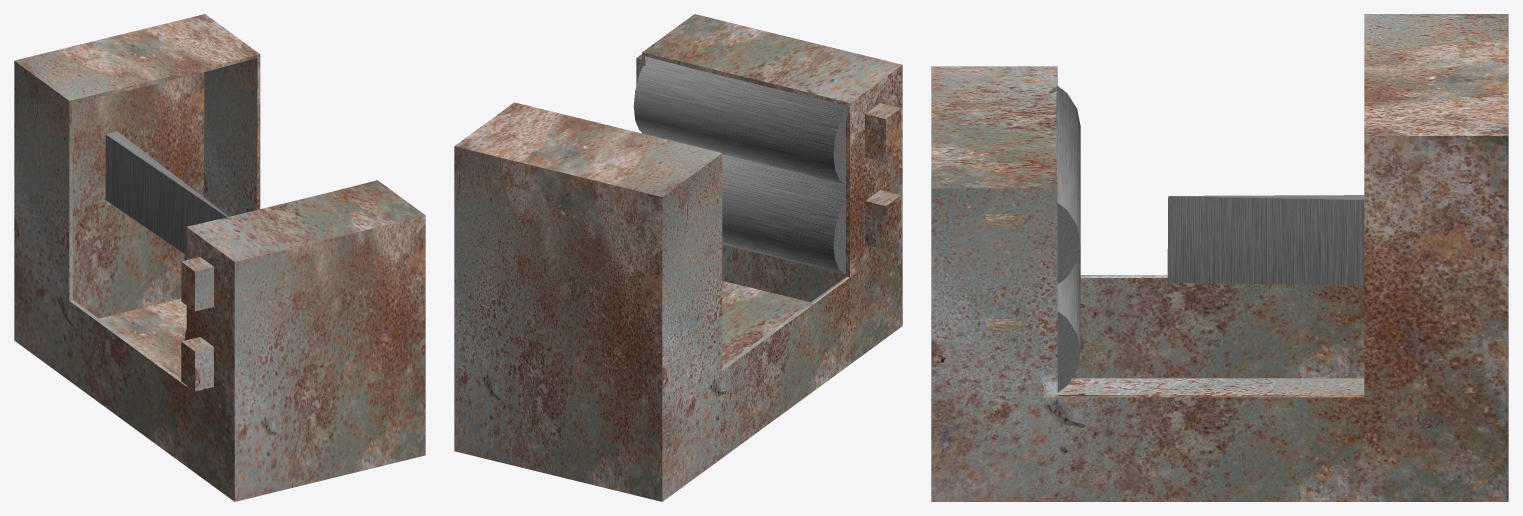
The model's file is Cutter.FBX.
3 views of the same model, side by side, from view 1: azimuth 30°, elevation 25°; view 2: azimuth 150°, elevation 25°; view 3: azimuth 270°, elevation 25° (orthographic). The views are drawn at different scales.
Visible parts, largest first — view 1: Box001; view 2: Box001, Cylinder001, Cylinder002; view 3: Box001, Cylinder001, Cylinder002.
Boxes of the visible parts, x1,y1,x2,y2 form: Box001: (14, 14, 425, 501); Box001: (454, 14, 902, 501); Cylinder001: (633, 57, 846, 184); Cylinder002: (722, 154, 845, 274); Box001: (931, 14, 1508, 501); Cylinder001: (1056, 85, 1080, 283); Cylinder002: (1057, 245, 1080, 392).
Bounding box in the file's own units: 6 × 7 × 10.
Materials: 2 (2 with a texture image).
